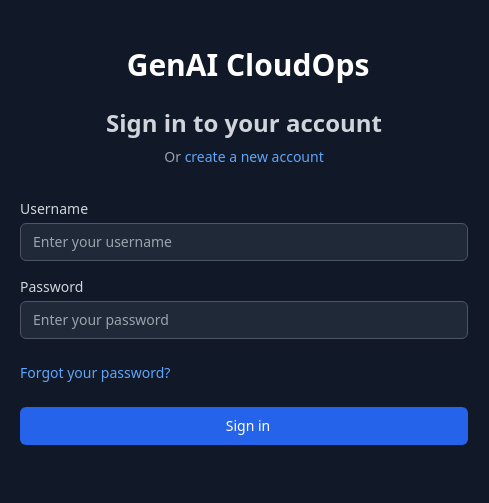
Test: LoginForm - Unit Tests › API Integration › should show error message for invalid credentials
The image size is (489, 503).
In the field labelled "Username": (244, 242) [20,223,468,261], type "admin"
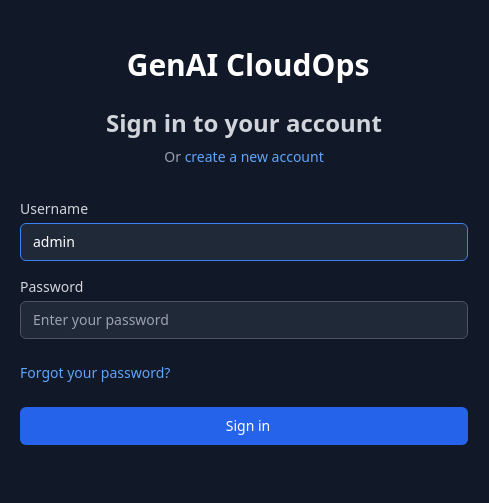
In the password field labelled "Password": (244, 320) [20,301,468,339], type "wrongpassword"
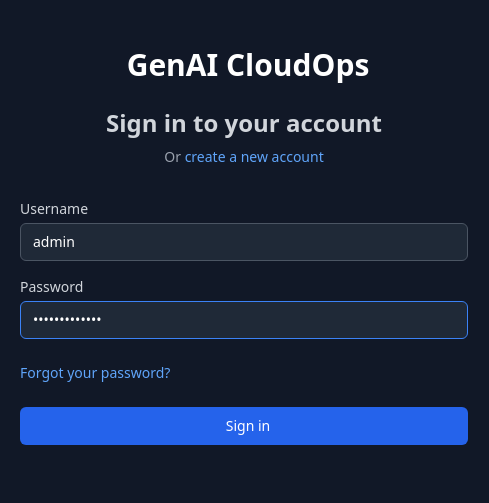
Click the button "Sign in": click(244, 426) [20,407,468,445]
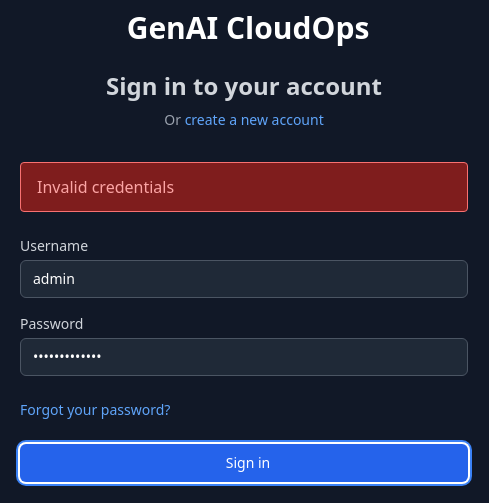
expect the text "Invalid credentials" is shown: met, box [37,176,174,198]
